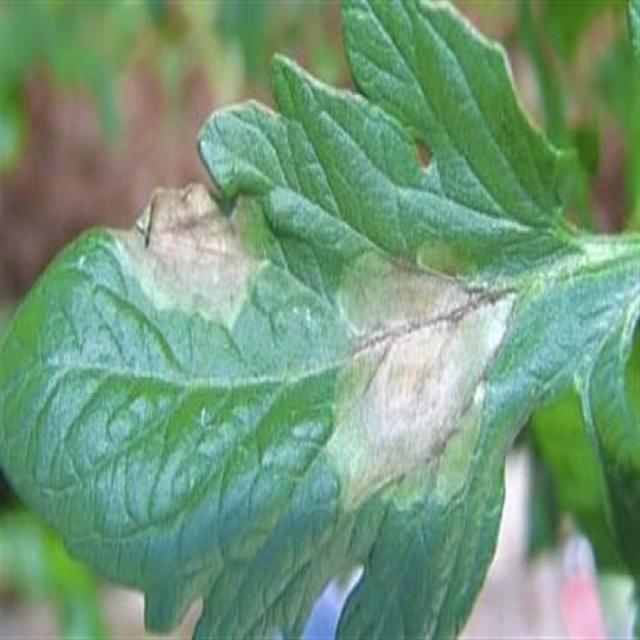Late Blight: (7, 5, 612, 635)
